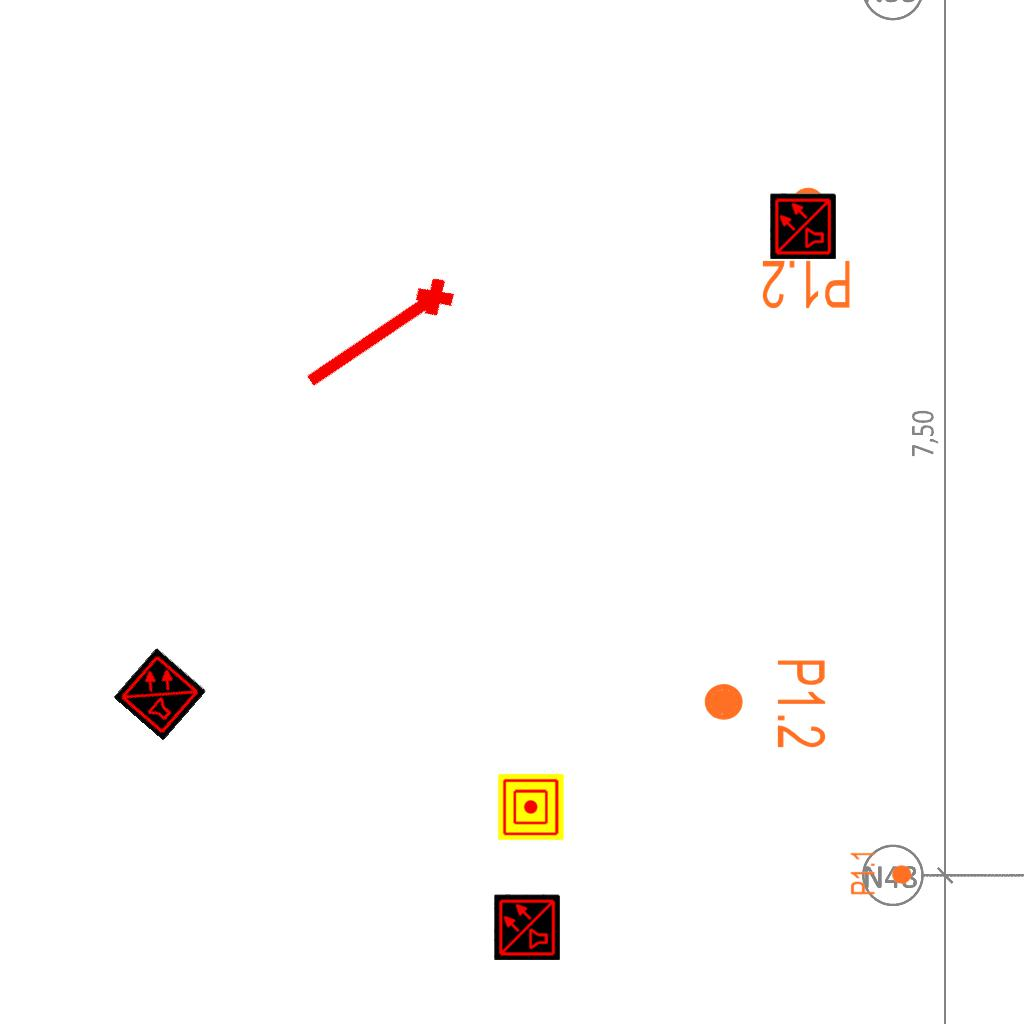ASR_Ansaugoeffnung: (294, 268, 466, 406)
Downlight_LED_Einbauleuchten_Flur: (760, 184, 853, 312), (701, 657, 829, 750), (849, 850, 913, 896)
NAM-Nichtautomatischer_Melder: (498, 774, 564, 840)
OKW_Multisensormelder_(Kombination_optischer_Rauch-Kahlenmonoxid_Waerme-Melder): (113, 647, 207, 741), (494, 894, 560, 960), (770, 193, 836, 259)
